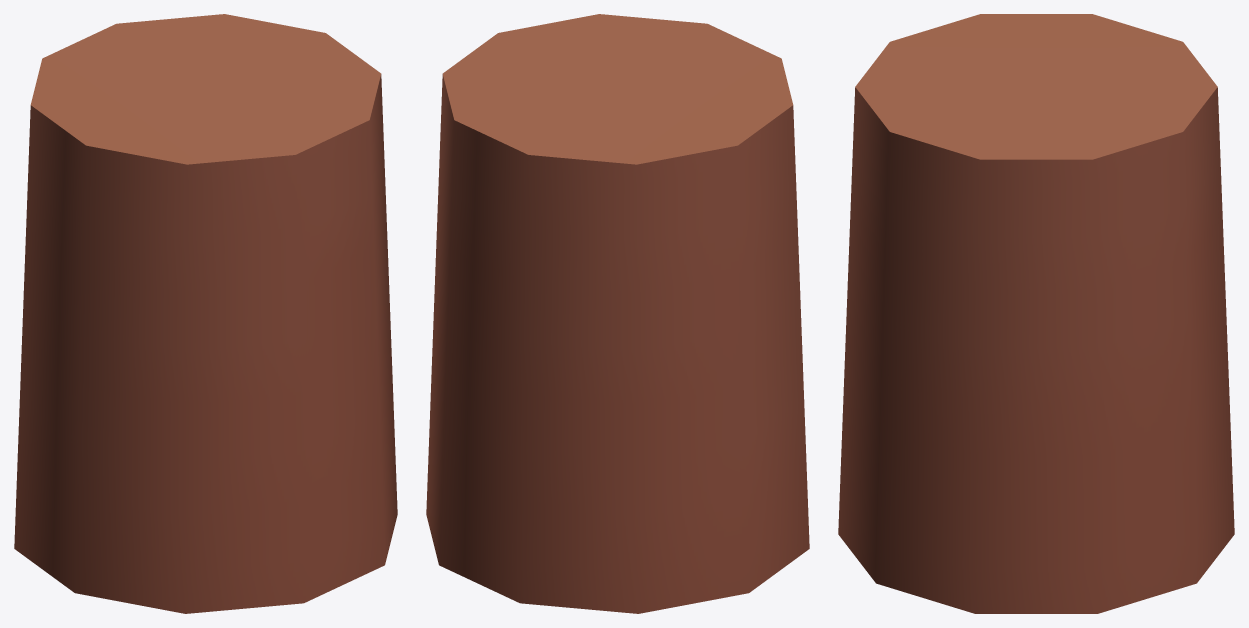
The model's file is tree_single_b_cut.glb.
3 views of the same model, side by side, from view 1: azimuth 30°, elevation 25°; view 2: azimuth 150°, elevation 25°; view 3: azimuth 270°, elevation 25° (orthographic).
Parts seen in each view (by area): view 1: tree_single_B_cut; view 2: tree_single_B_cut; view 3: tree_single_B_cut.
Part boxes in pixels (<box>): tree_single_B_cut: <box>14,14,397,613</box>; tree_single_B_cut: <box>426,14,809,613</box>; tree_single_B_cut: <box>838,14,1234,613</box>.
Bounding box in the file's own units: 0.1807 × 0.2366 × 0.19.
1 material, 1 textured.
